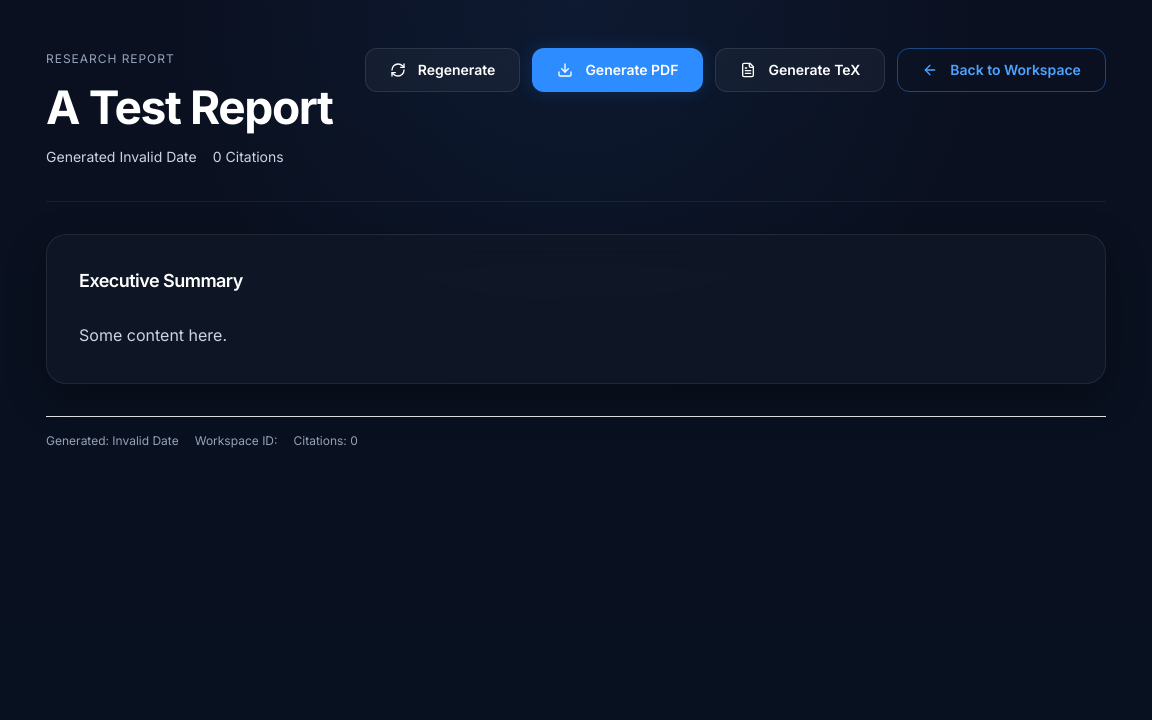
Test: Report > back-to-workspace navigation (FSM regressive action) › keeps the user on the Report page when the regressive action fails
Click the button "Back to Workspace" at [1002, 70], box [897,48,1106,92]
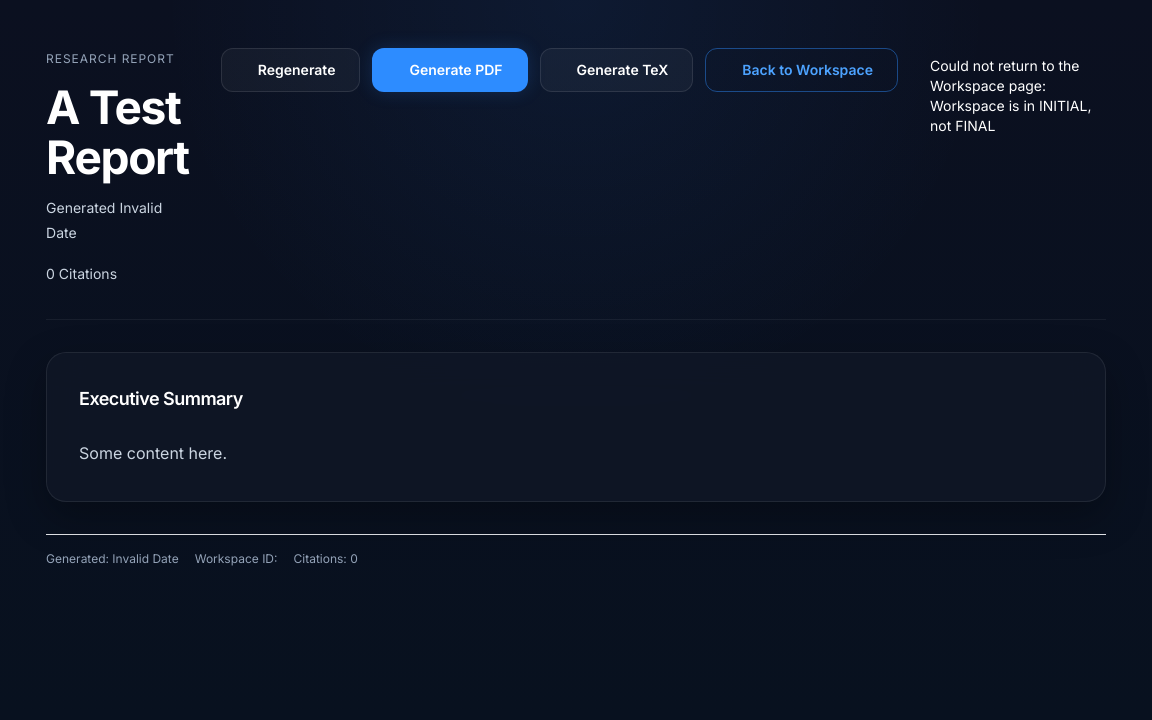
Now the message "Could not return to the Workspace page: Workspace is in INITIAL, not FINAL" is shown, box [930,56,1106,136]
Now the message with test id "back-to-workspace-error" shows "Workspace is in INITIAL", box [930,97,1092,134]
